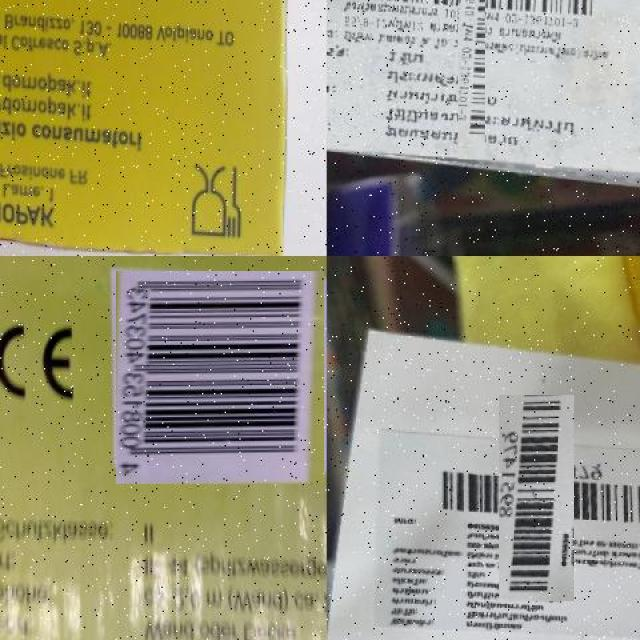Barcode: (115, 272, 325, 483), (466, 428, 607, 569), (393, 0, 552, 94)
